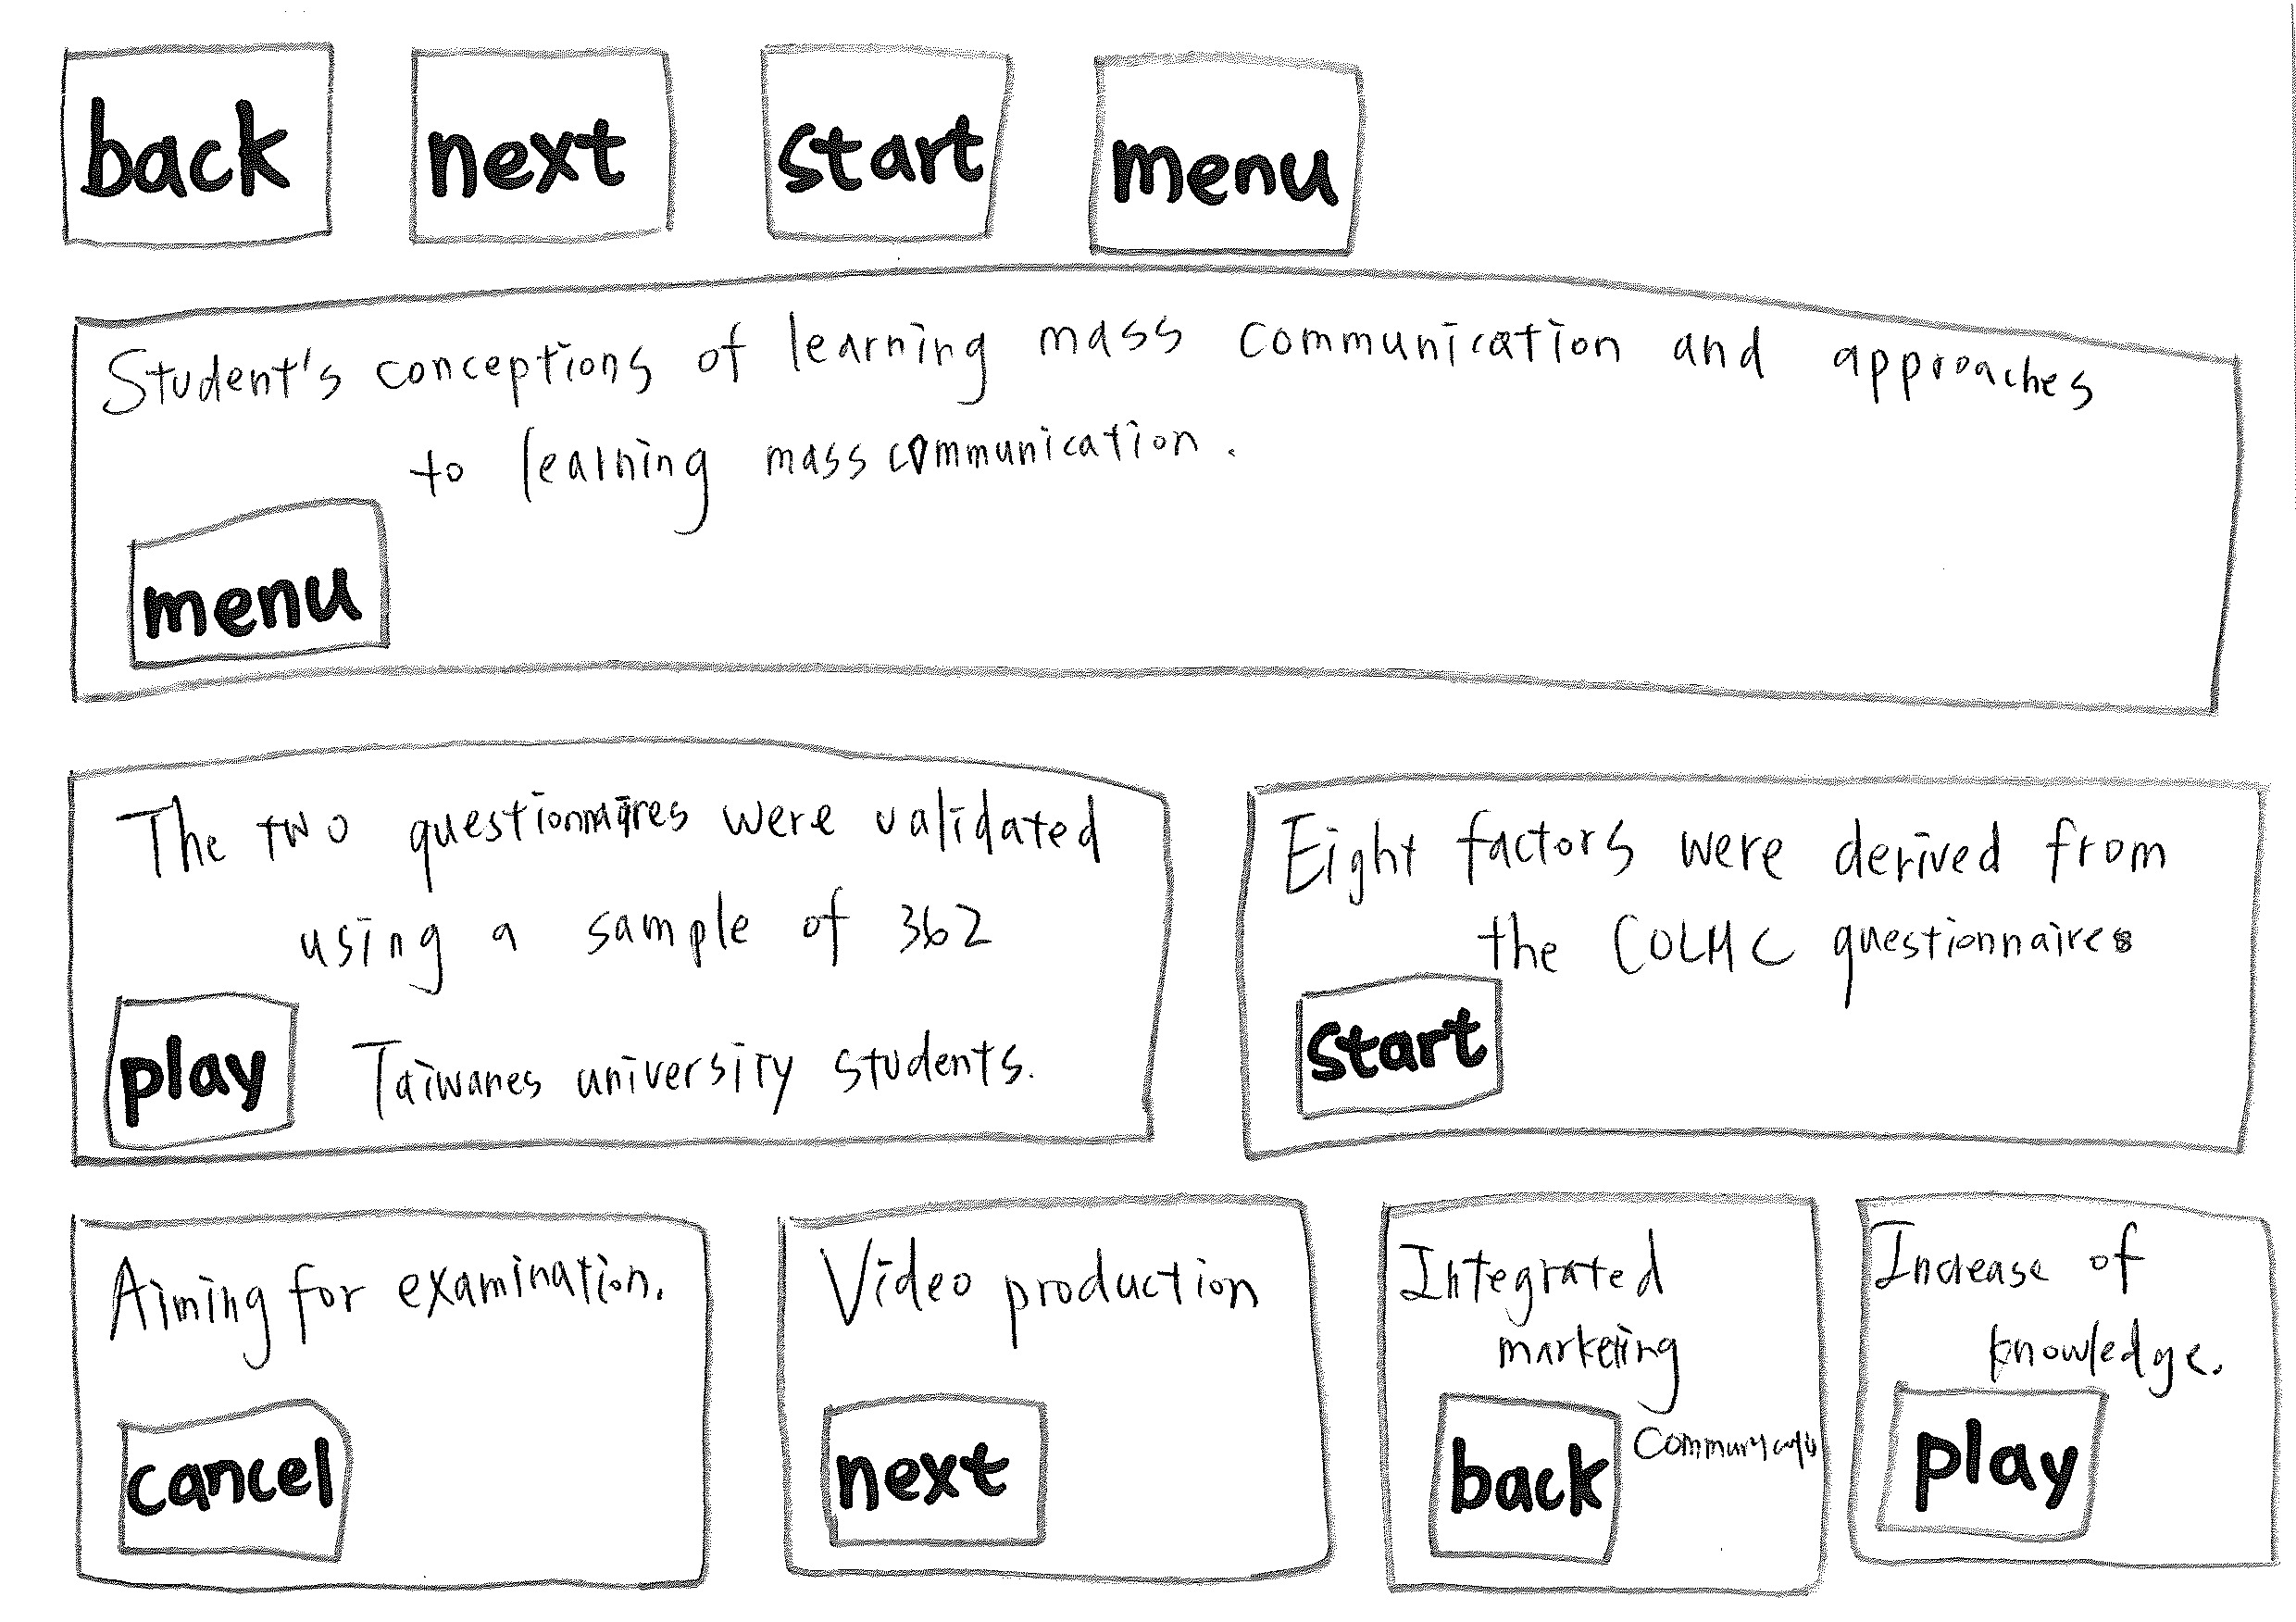back: (44, 16, 348, 263), (1396, 1376, 1639, 1573)
cancel: (98, 1394, 388, 1578)
double: (35, 699, 1206, 1185), (1201, 716, 2296, 1188)
menu: (1055, 11, 1432, 262), (98, 484, 398, 674)
next: (381, 23, 711, 270), (774, 1371, 1065, 1559)
play: (1871, 1371, 2135, 1559), (72, 974, 309, 1148)
quadruple: (40, 1192, 737, 1615), (755, 1174, 1366, 1608), (1826, 1164, 2294, 1622), (1345, 1187, 1841, 1617)
row: (18, 1145, 2296, 1622), (18, 248, 2296, 723), (18, 718, 2296, 1194), (16, 12, 2296, 255)
single: (44, 230, 2296, 760)
small-title: (107, 330, 2087, 435), (132, 781, 1109, 885), (1273, 806, 2185, 906), (111, 1250, 674, 1339), (823, 1246, 1294, 1341), (1390, 1231, 1711, 1306), (1864, 1227, 2166, 1304)
start: (735, 26, 1051, 262), (1271, 962, 1541, 1127)
text: (302, 883, 1113, 1129), (404, 414, 1241, 525), (1496, 895, 2147, 983), (1473, 1304, 1724, 1367), (1987, 1308, 2238, 1366), (1652, 1413, 1797, 1466)
